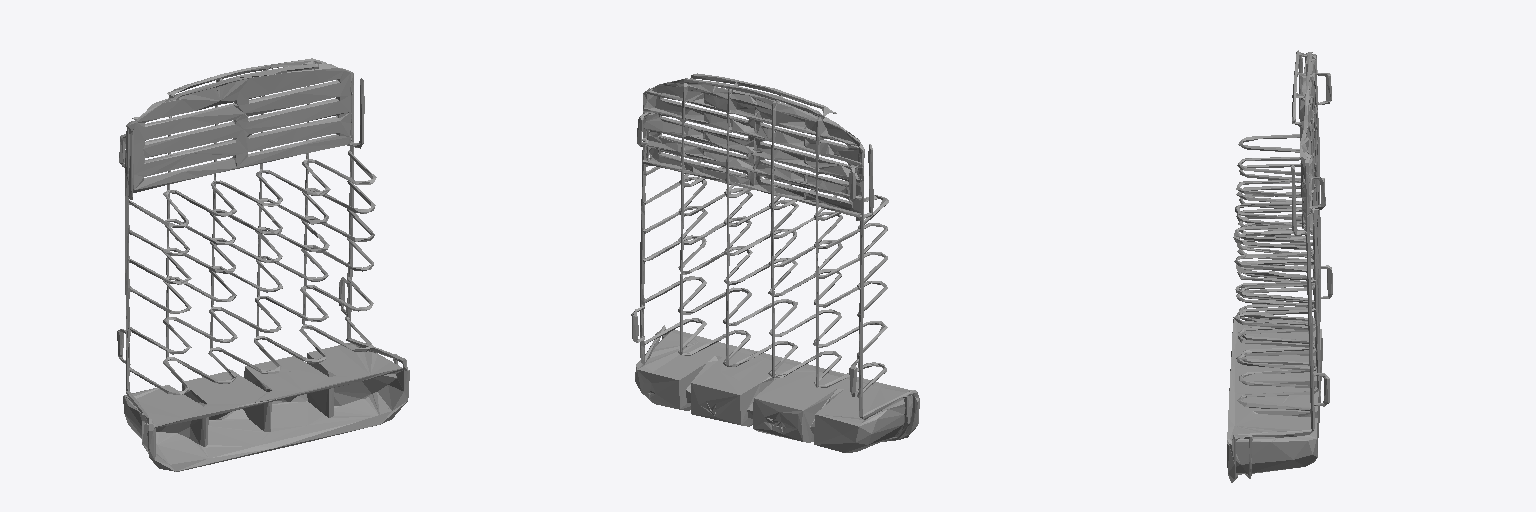
Rendered from model_AlWaistI3nR.obj.
3 renders of one model, left to right at view 1: azimuth 30°, elevation 25°; view 2: azimuth 150°, elevation 25°; view 3: azimuth 270°, elevation 25°, orthographic.
Parts seen in each view (by area): view 1: model; view 2: model; view 3: model.
Part boxes in pixels (x1,y1,x2,y2): model: (117,58,409,471); model: (631,73,919,452); model: (1227,50,1332,482).
Size of the model in its own units: 0.3396 by 0.4428 by 0.1213.